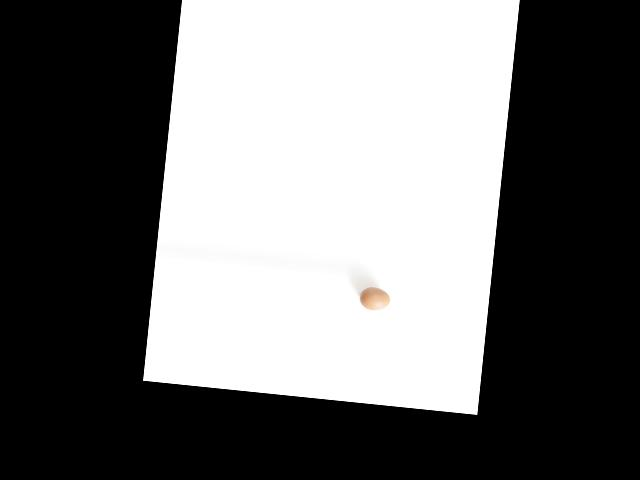egg: (358, 286, 391, 311)
